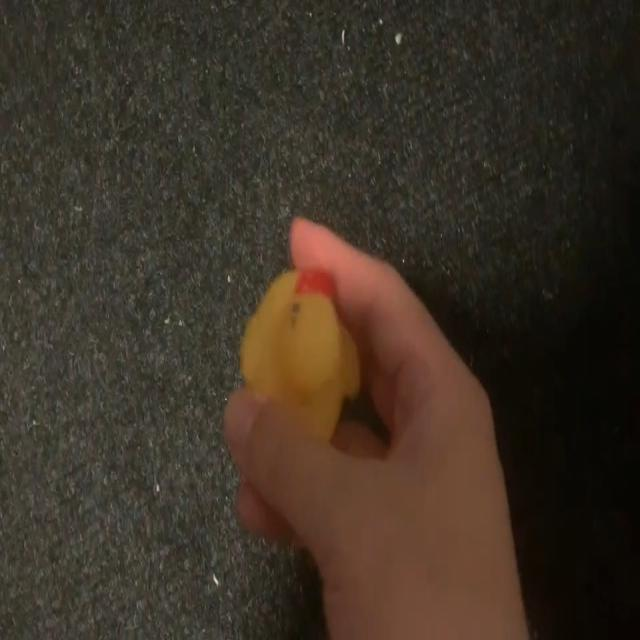rubber-duck: (240, 269, 358, 438)
